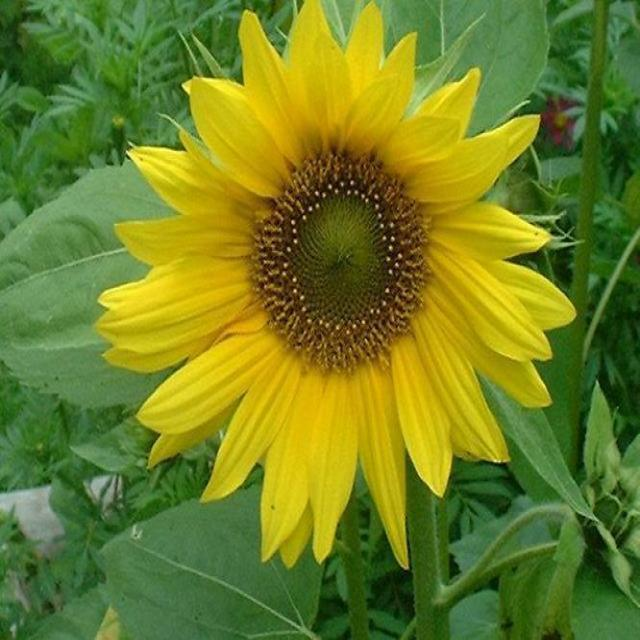sunflower: (98, 6, 576, 572)
